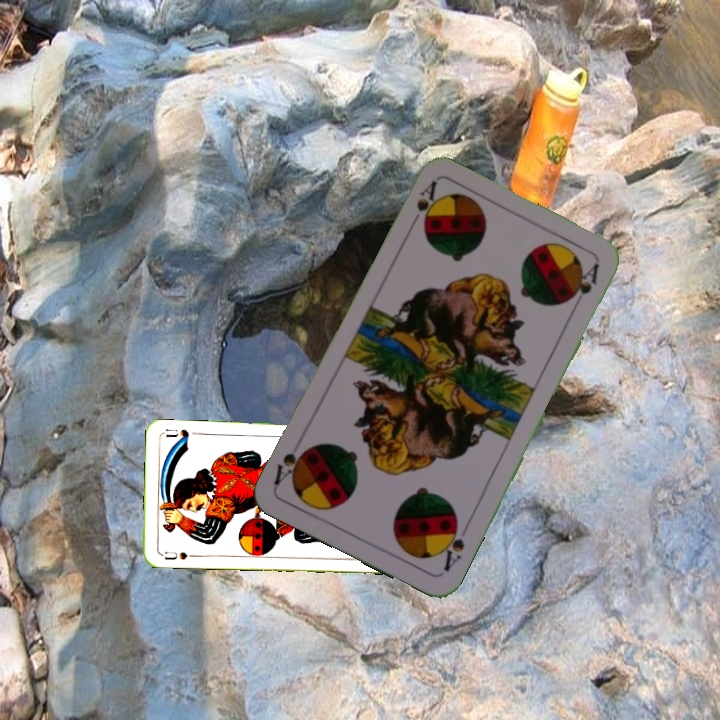SA: (404, 178, 439, 233), (437, 516, 468, 574)
SU: (157, 547, 197, 562)
